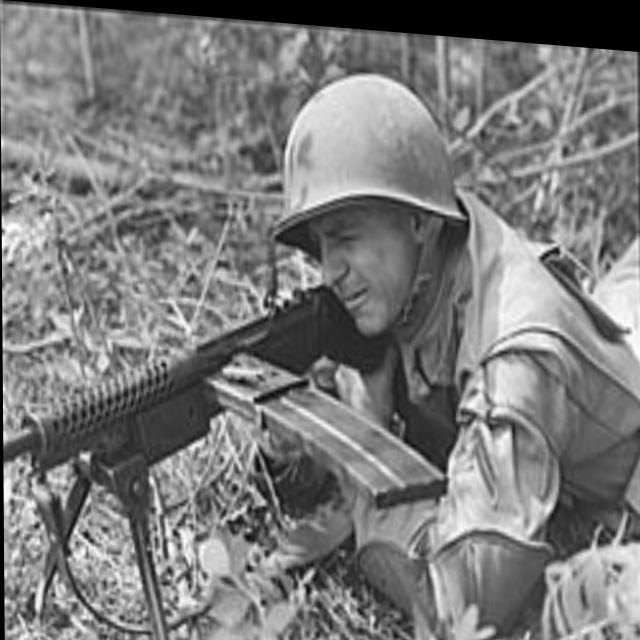other: (221, 54, 640, 617)
